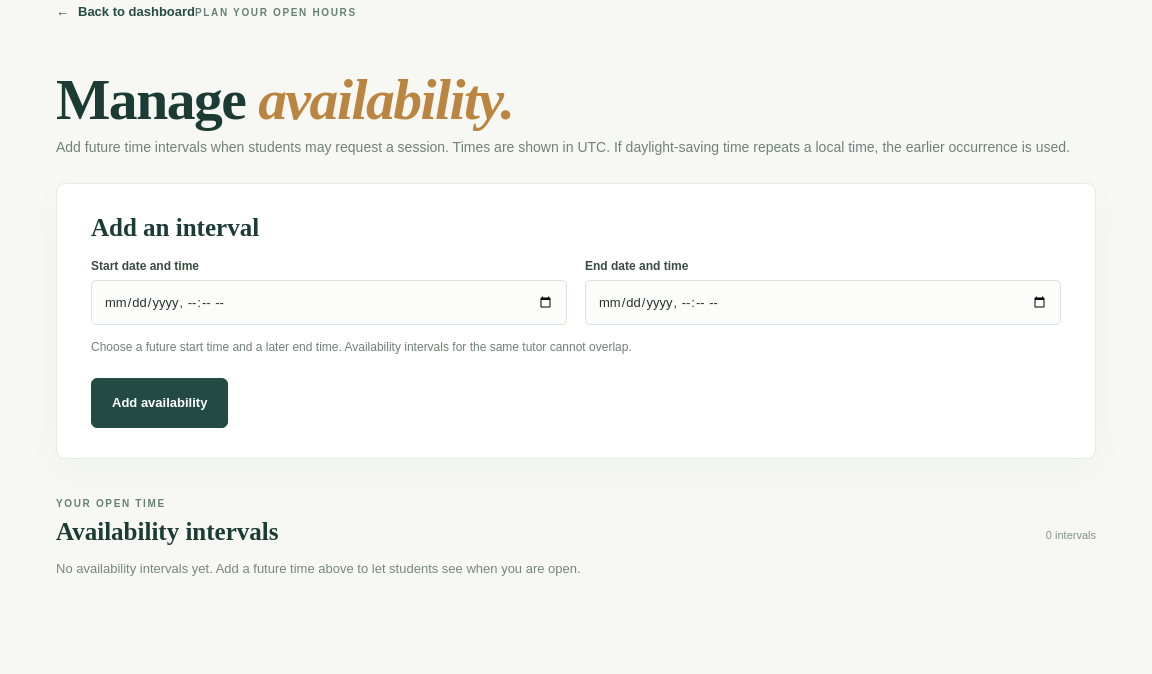
Test: tutor availability page › creates, edits, and deletes an availability interval
Expected: the text "No availability intervals yet" is shown, [56, 560, 581, 576]
Type "2099-06-01T09:00" into the field labelled "Start date and time".
click(329, 303); type("2099-06-01T09:00")  # box [91, 280, 567, 325]
Type "2099-06-01T10:00" into the field labelled "End date and time".
click(823, 303); type("2099-06-01T10:00")  # box [585, 280, 1061, 325]
Click the button "Add availability".
click(160, 402)  # box [91, 378, 228, 428]
(page scrolled)
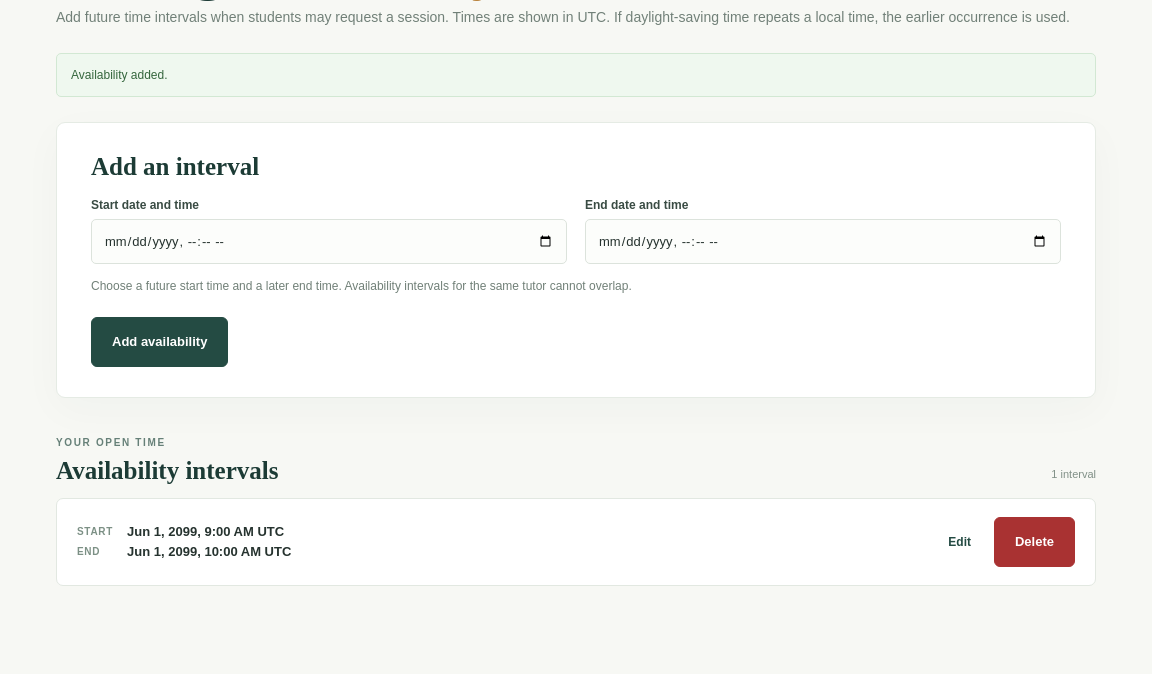
Expected: the text "Availability added." is shown, [56, 53, 1096, 97]
Click the button "Edit".
click(960, 542)  # box [939, 526, 980, 558]
(page scrolled)
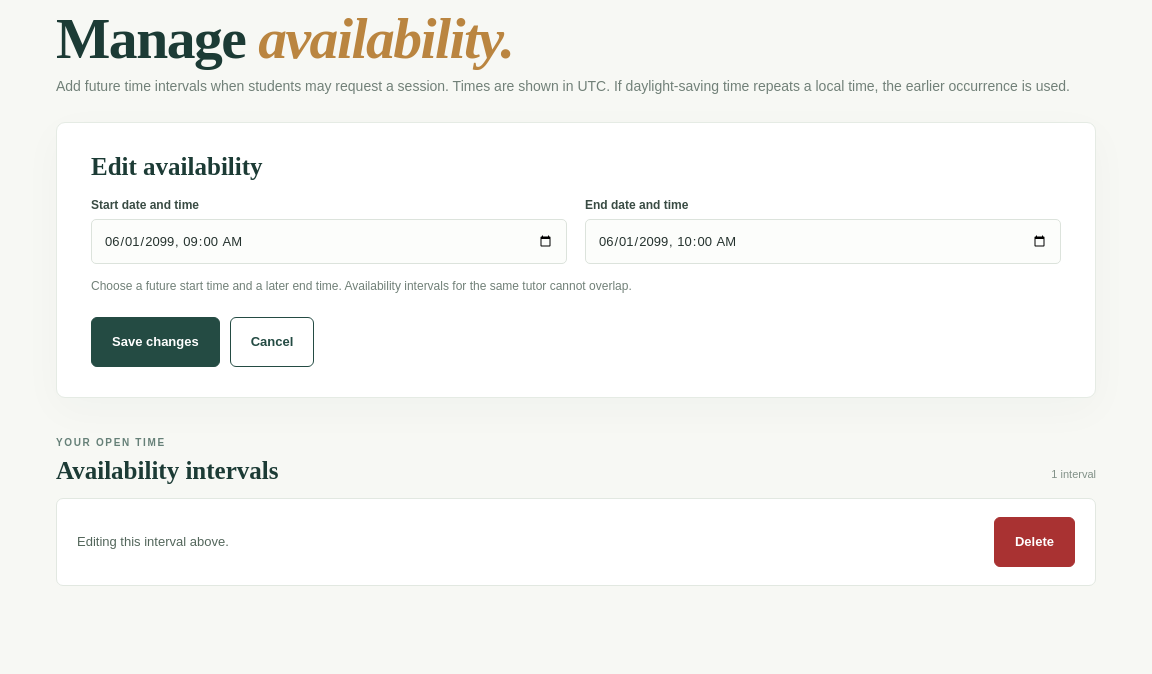
Replace the text in the field labelled "Start date and time" with "2099-06-01T11:00" at (329, 242), box [91, 219, 567, 264]
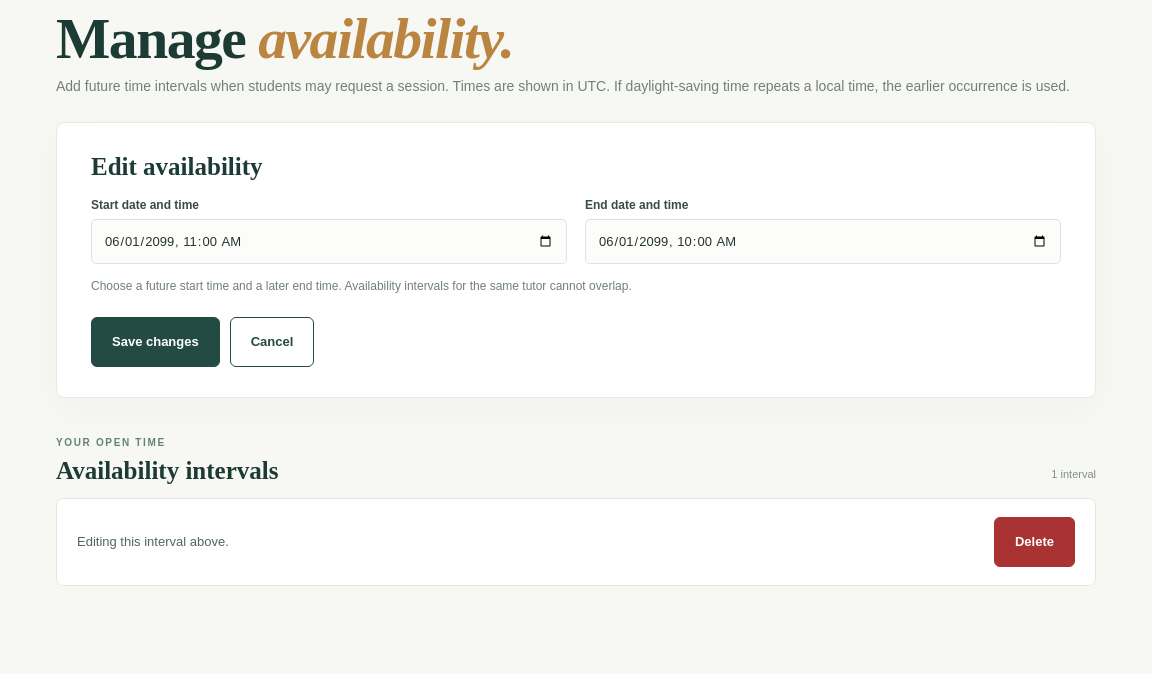
Replace the text in the field labelled "End date and time" with "2099-06-01T12:00" at (823, 242), box [585, 219, 1061, 264]
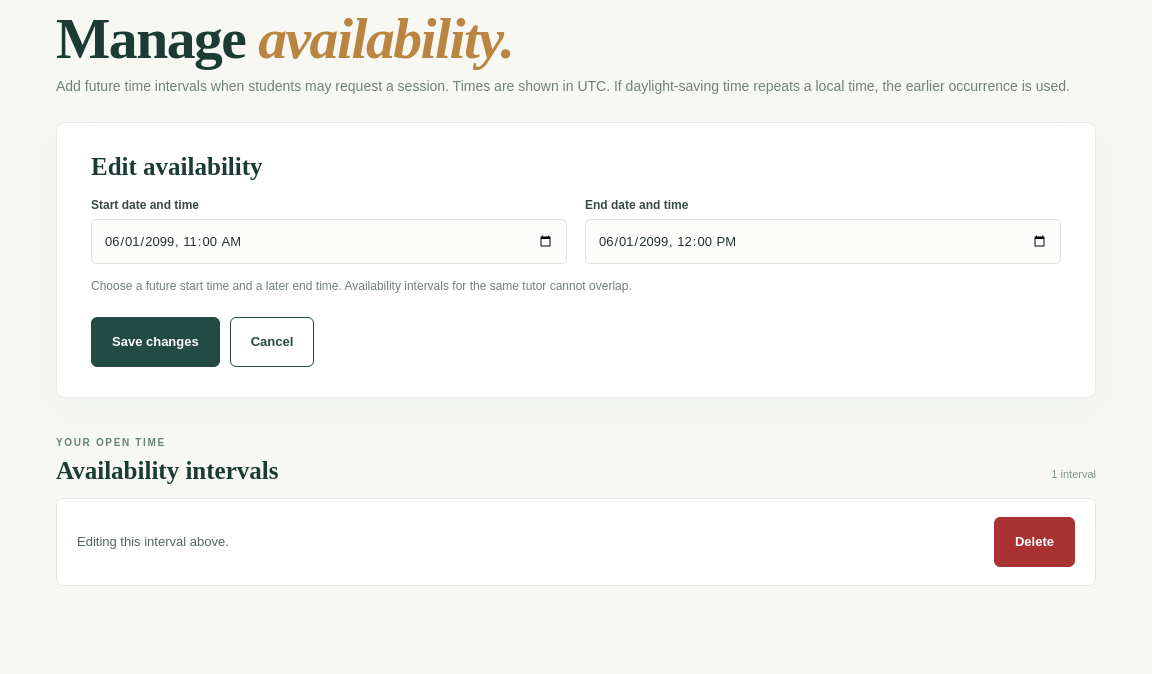
Click the button "Save changes".
click(155, 342)  # box [91, 316, 220, 366]
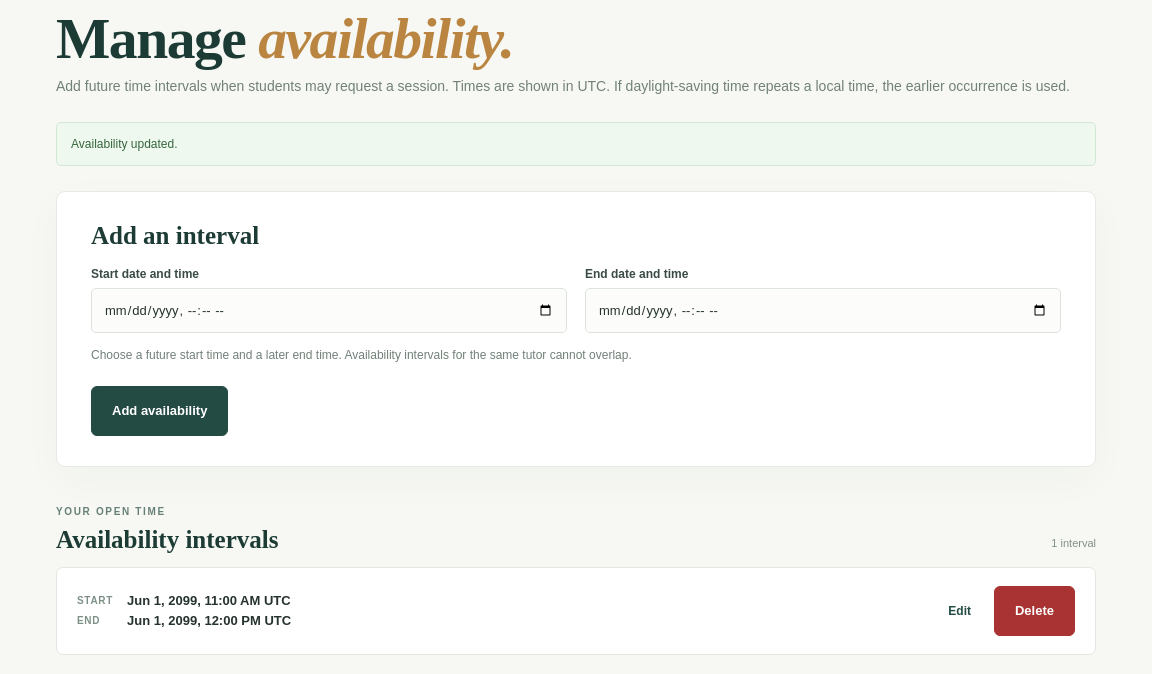
Expected: the text "Availability updated." is shown, [56, 122, 1096, 166]
Click the button "Delete".
click(1034, 610)  # box [994, 586, 1075, 636]
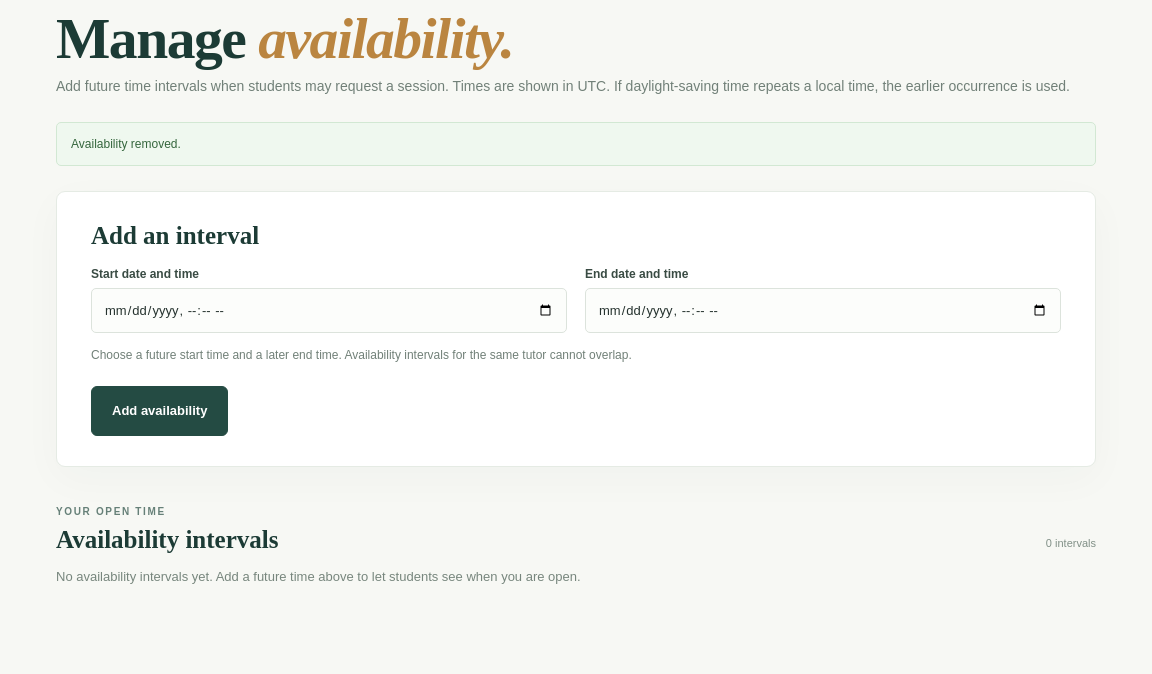
Expected: the text "Availability removed." is shown, [56, 122, 1096, 166]
